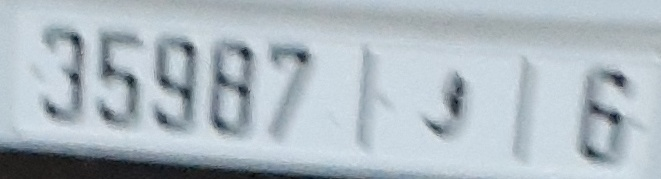3: (35, 21, 90, 124)
5: (94, 24, 143, 130)
6: (571, 59, 633, 168)
7: (265, 39, 316, 145)
8: (209, 35, 254, 141)
9: (150, 33, 199, 137)
waw: (419, 65, 475, 144)
